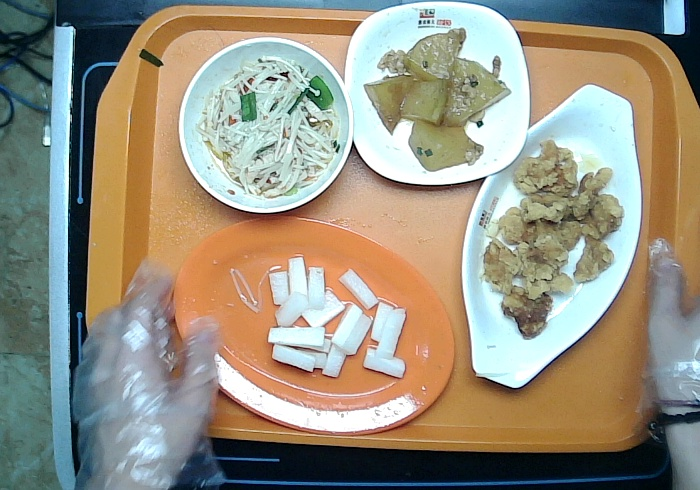NLDX-Bai_Se_Xiao_Fang_Die: (345, 4, 530, 186)
NLDX-Fan_Wan: (177, 36, 353, 214)
NLDX-Ju_Se_Pan: (172, 217, 456, 435)
NLDX-Yu_Pan: (460, 82, 641, 389)
